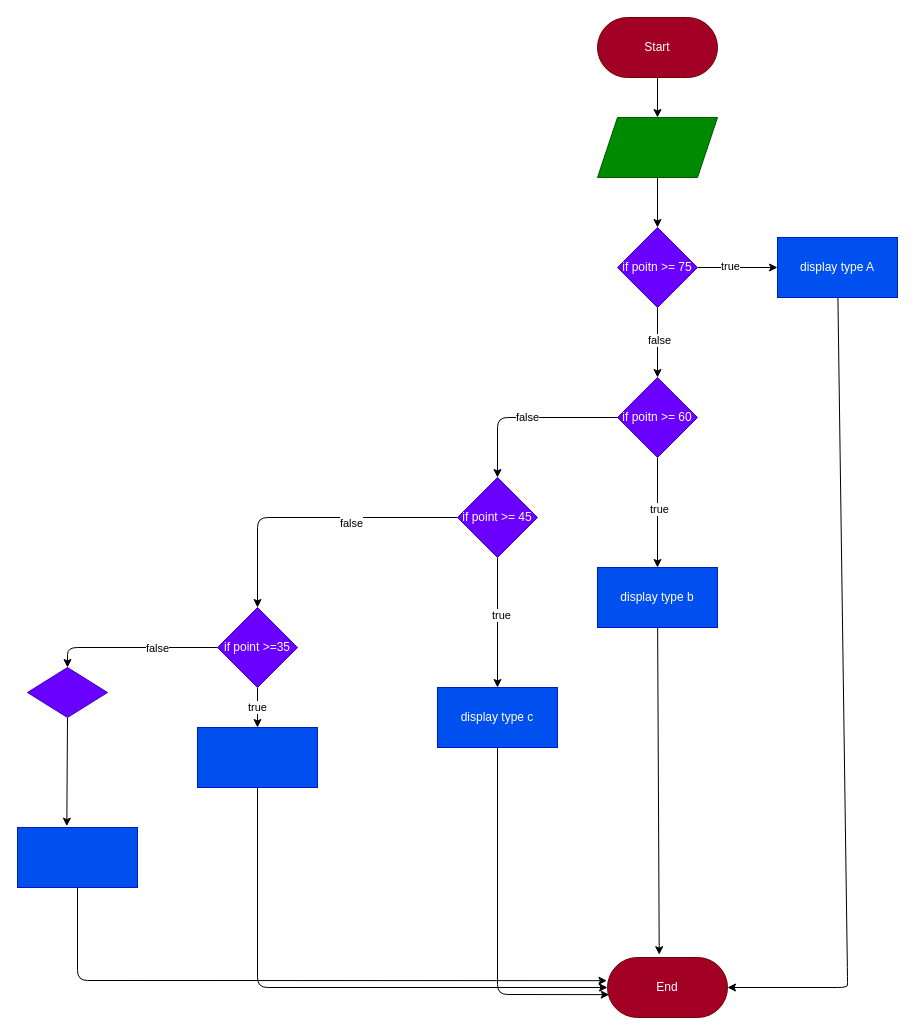
Some shapes in this 915 by 1035 pixel diagram are drawn without their labels. Each missing label, with the box of its shape:
display type d: (196, 726, 318, 788)
display type e: (16, 826, 138, 888)
else: (26, 666, 108, 718)
input point: (596, 116, 718, 178)
